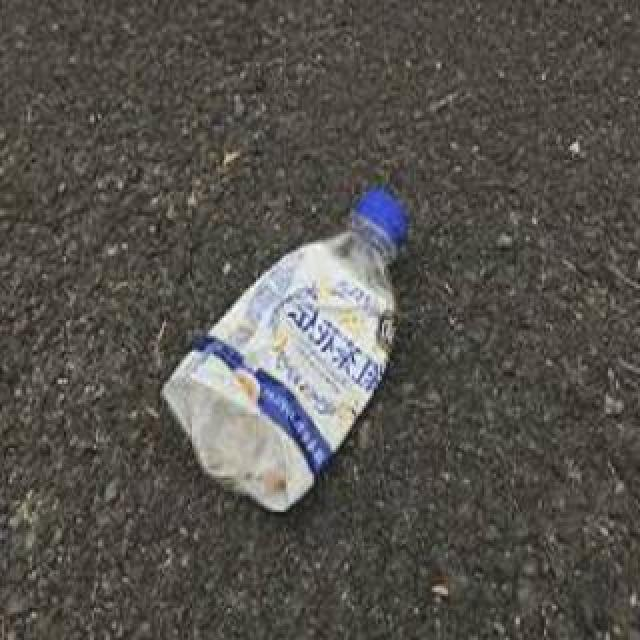Pet_Bottle: (157, 186, 413, 512)
